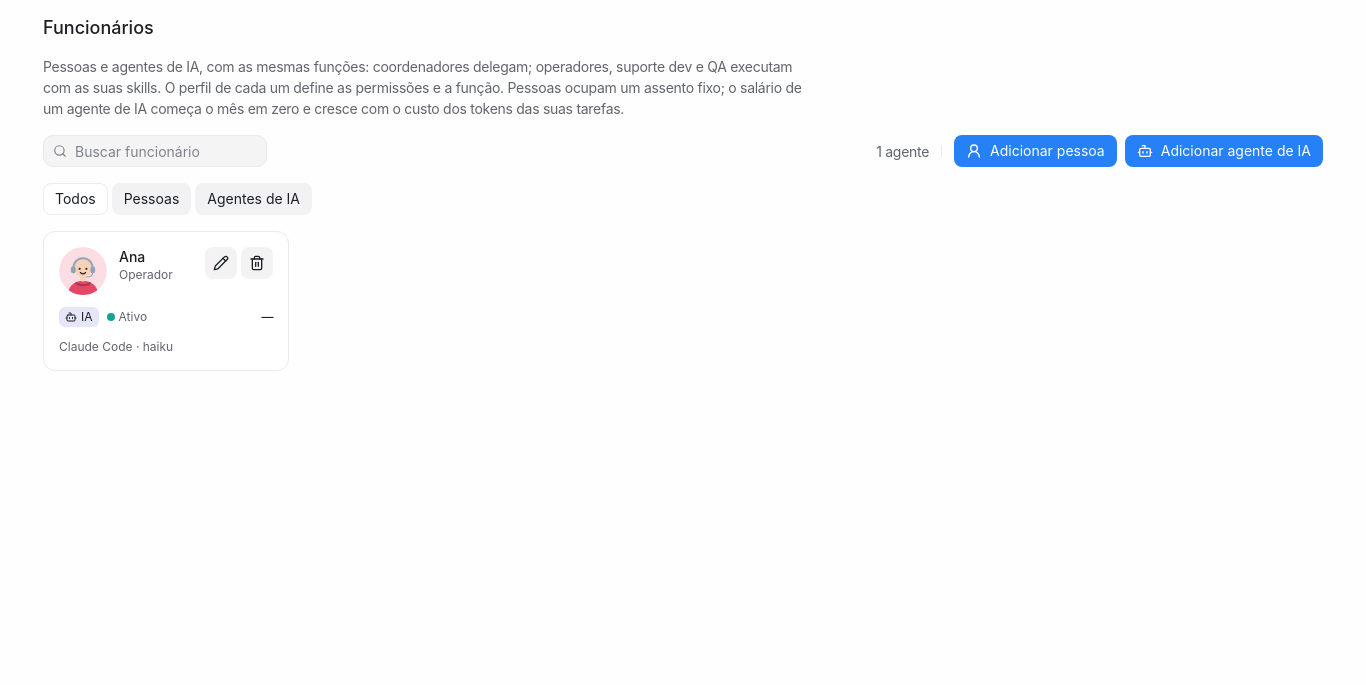
Test: AI agent runtimes › keeps an existing agent on its runtime and says how to install it
Click the button named "Editar Ana": click(221, 263) [205,247,237,279]
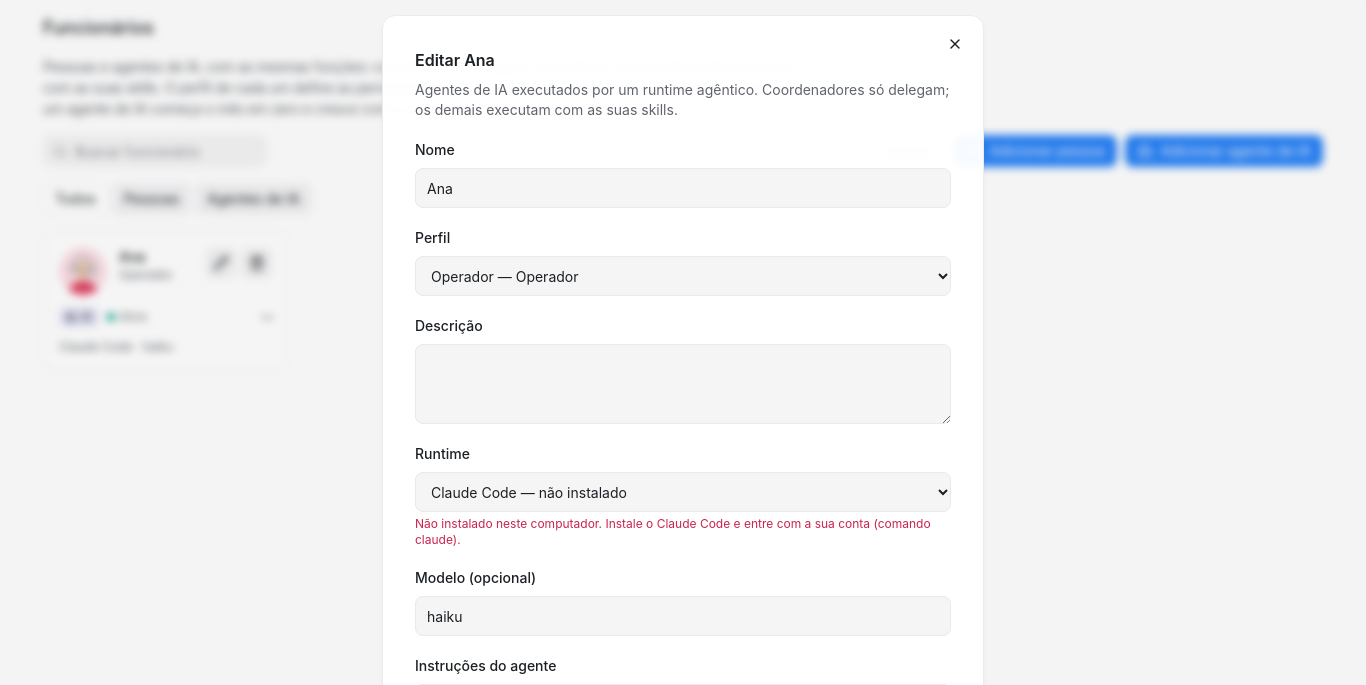
Check: the text "Instale o Claude Code" is shown, box [415,516,931,547]
Check: the dropdown labelled "Runtime" shows "Claude Code — não instalado", box [415,472,951,512]
